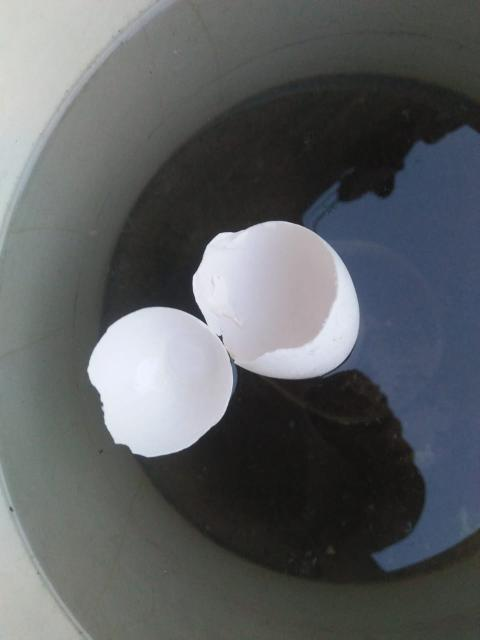Roto: (192, 219, 360, 380), (86, 305, 236, 458)
